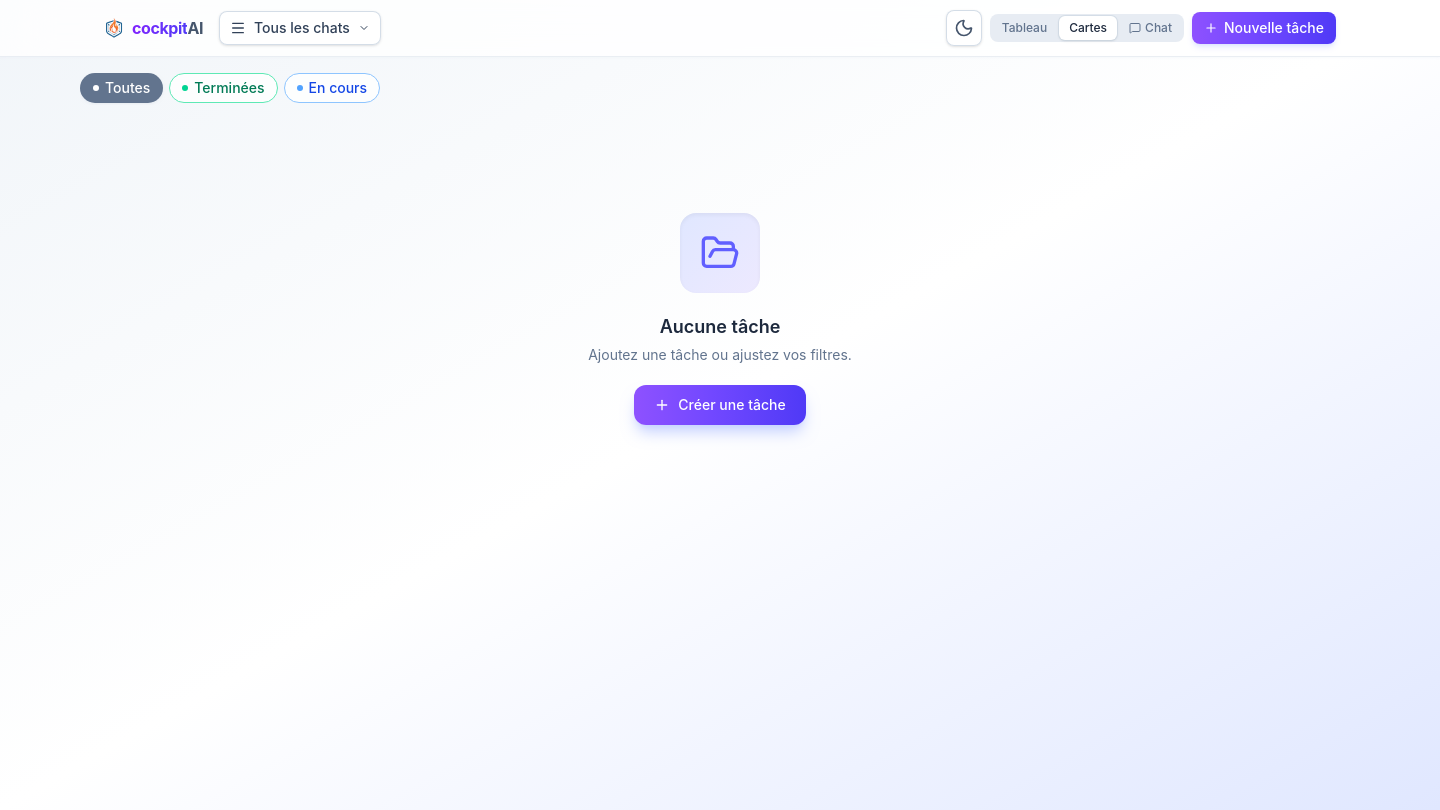
Test case: App — AppHeader wiring › lists available sessions in the AppHeader burger menu
Note: Open the burger (default title is "Tous les chats")
Click the button "Tous les chats".
click(300, 28)  # box [219,11,381,45]
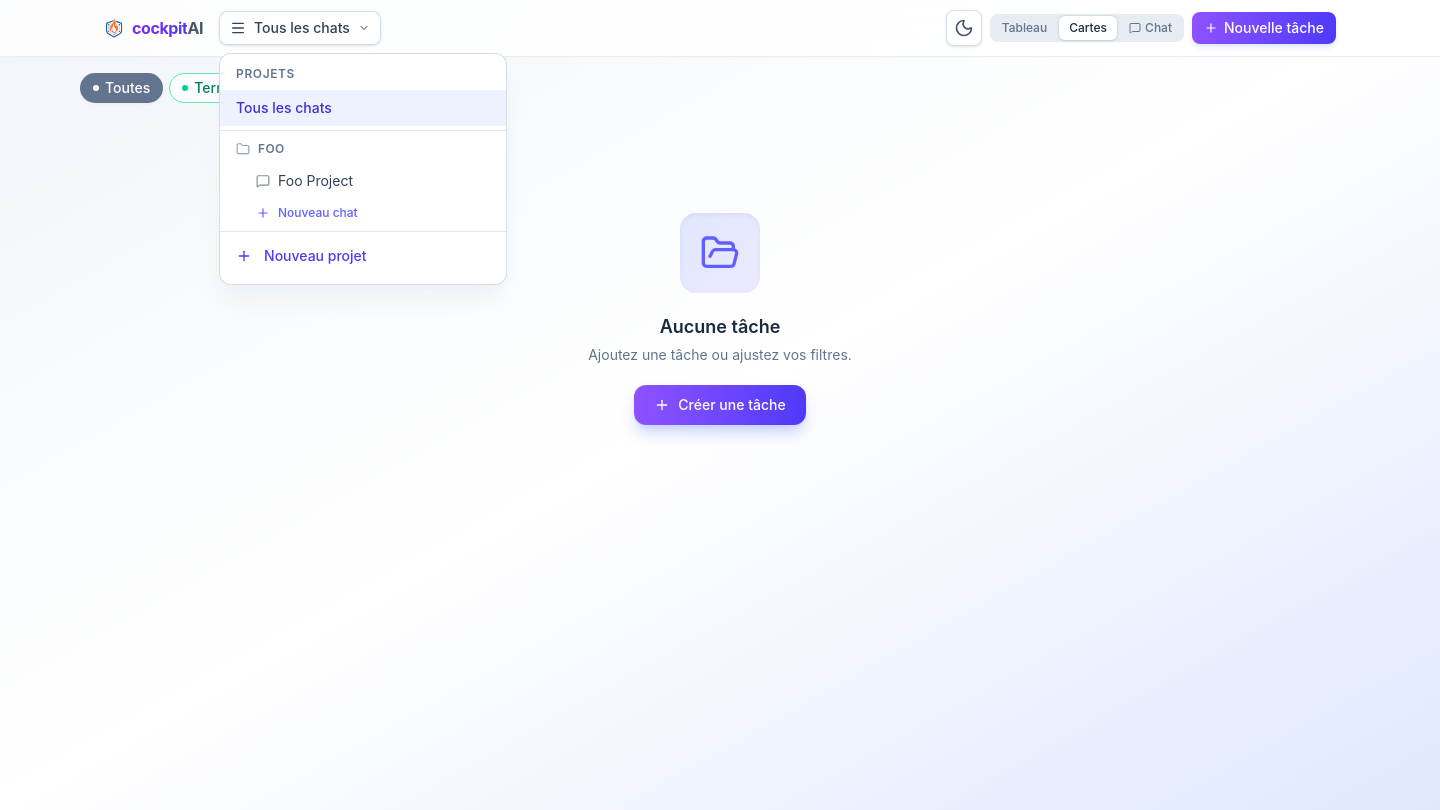
Expected: the text "Foo Project" is shown, [278,171,353,191]
